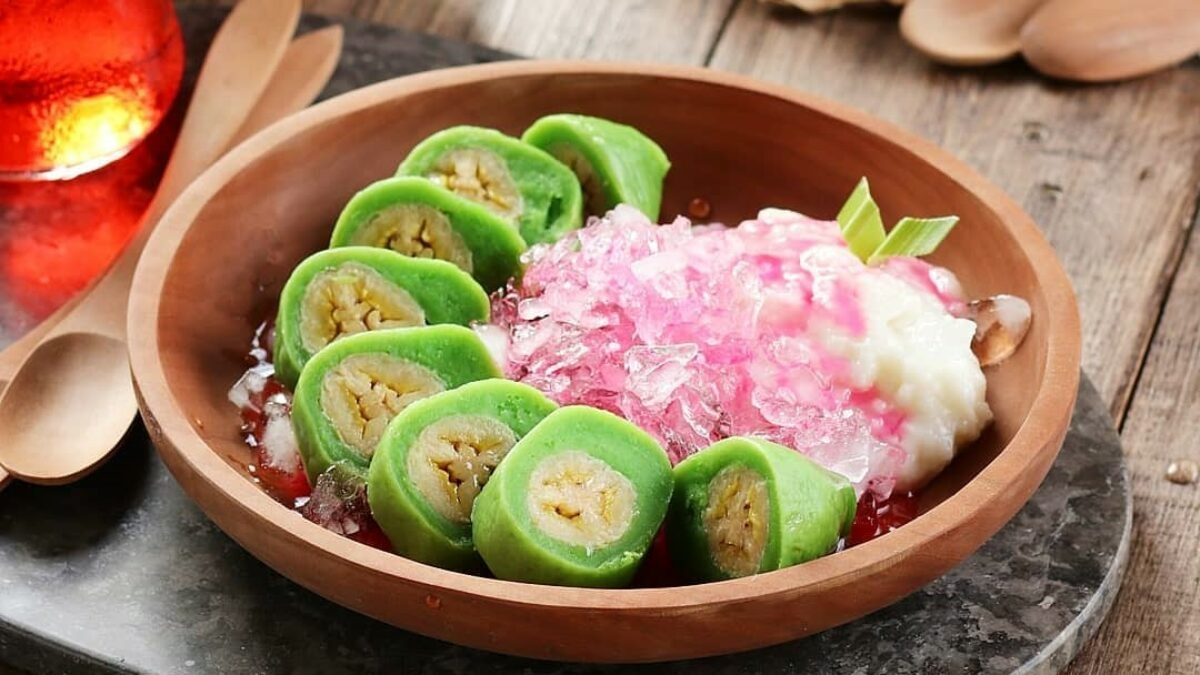pisang_ijo: (470, 399, 665, 580)
